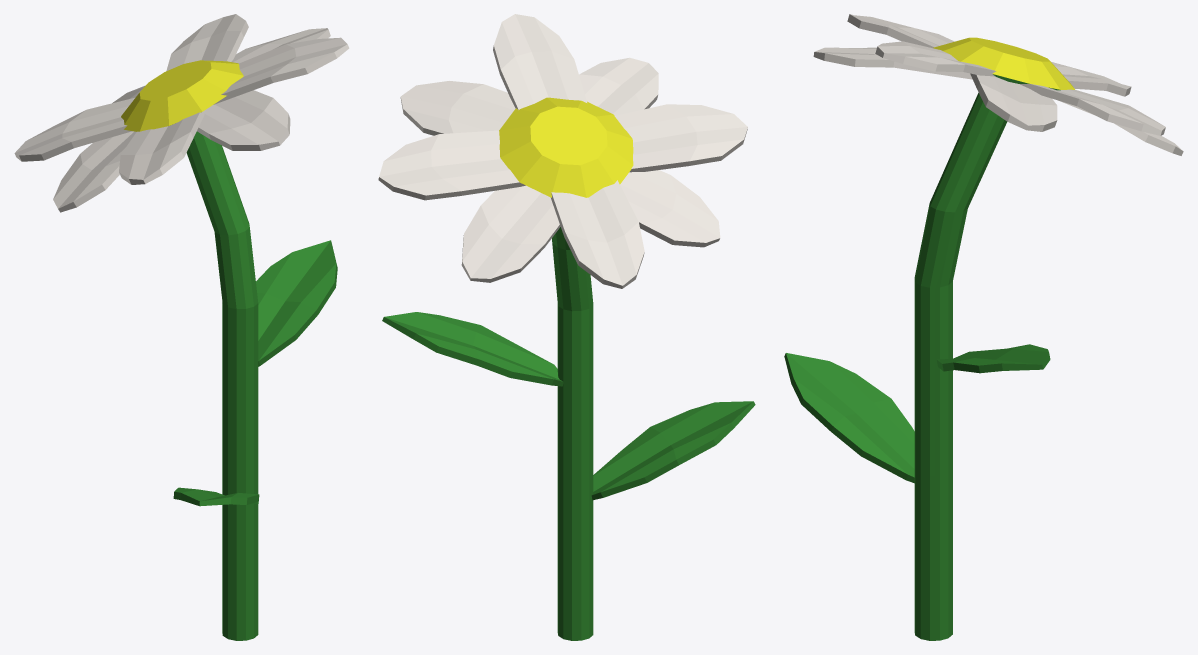
File: ForestFlower1.fbx
3 views of the same model, side by side, from view 1: azimuth 30°, elevation 25°; view 2: azimuth 150°, elevation 25°; view 3: azimuth 270°, elevation 25° (orthographic). The views are drawn at different scales.
Parts seen in each view (by area): view 1: Flower1.2; view 2: Flower1.2; view 3: Flower1.2.
Boxes of the visible parts, box(x1,y1,x2,y2) form: Flower1.2: box(14, 14, 349, 640); Flower1.2: box(378, 14, 755, 640); Flower1.2: box(784, 14, 1183, 640).
Bounding box in the file's own units: 39.44 × 71.85 × 41.72.
